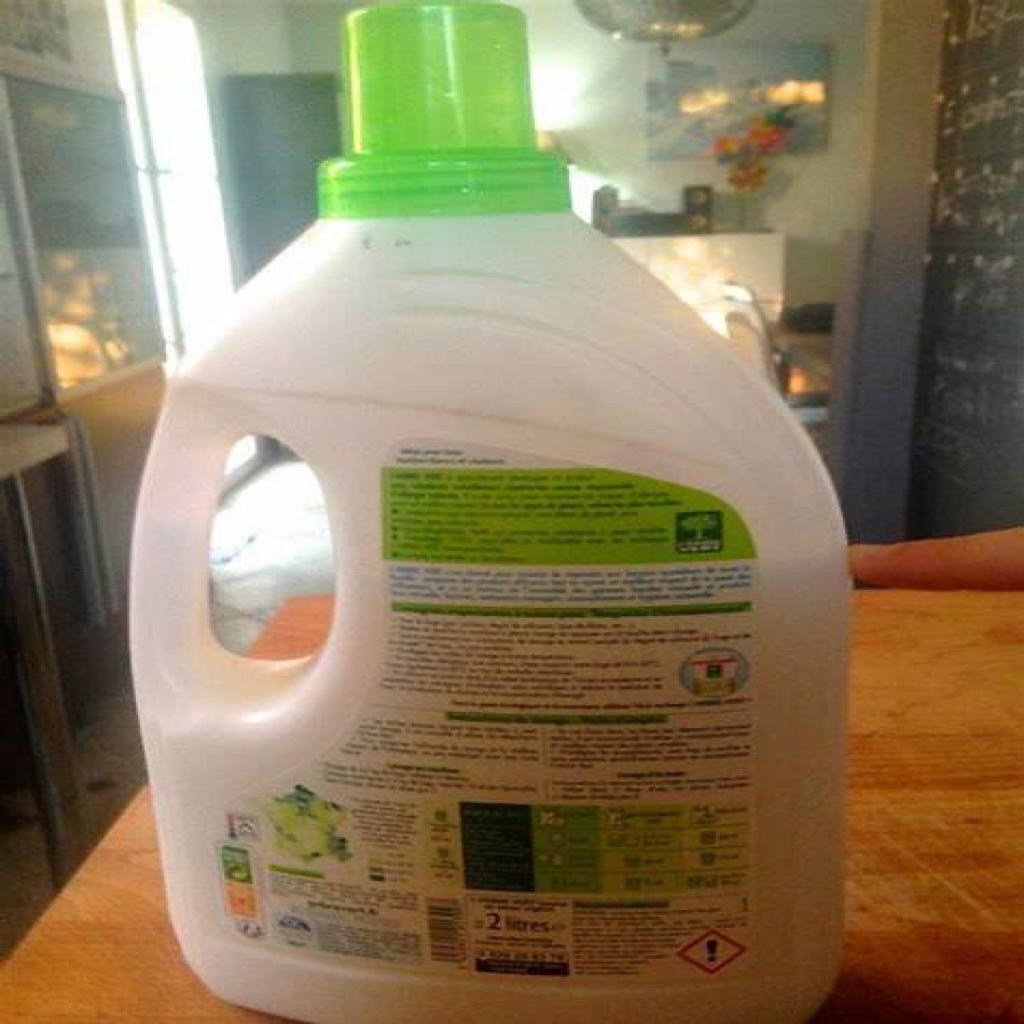organico: (125, 5, 866, 1024)
